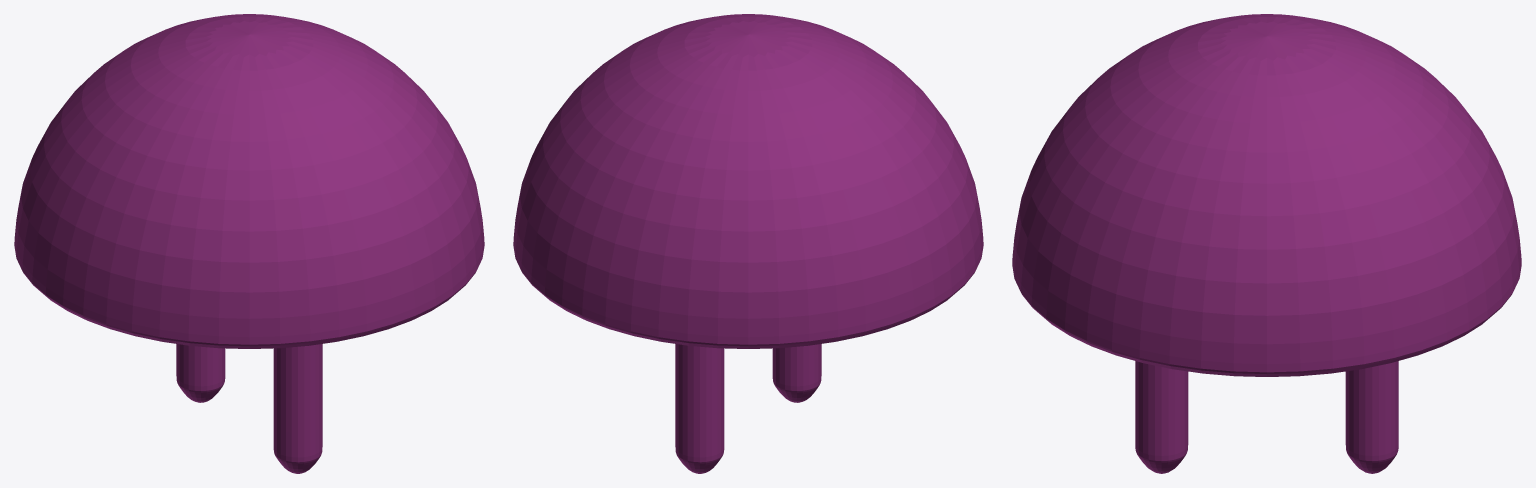
The model's file is canister_cap.fbx.
3 renders of one model, left to right at view 1: azimuth 30°, elevation 25°; view 2: azimuth 150°, elevation 25°; view 3: azimuth 270°, elevation 25°, orthographic. The views are drawn at different scales.
Parts seen in each view (by area): view 1: Cap; view 2: Cap; view 3: Cap.
Boxes of the visible parts, bbox=[...] form: Cap: bbox=[14, 14, 484, 473]; Cap: bbox=[513, 14, 983, 473]; Cap: bbox=[1012, 14, 1521, 473].
Size of the model in its own units: 5.81 by 5.49 by 5.81.
